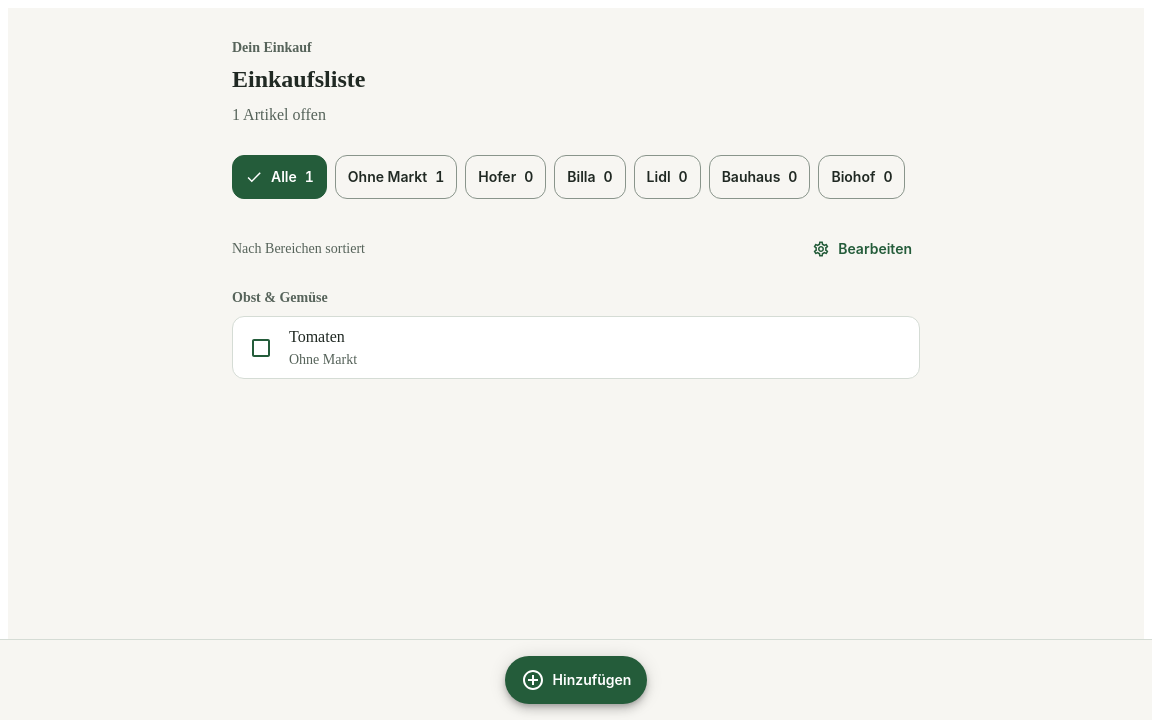
Test case: writes a purchase by grocery id and waits for the list snapshot to update
This screenshot has width=1152, height=720.
Later steps or results of the test are not shown.
Click the button named "Tomaten als gekauft markieren" at (261, 348), box [237,324,285,372]
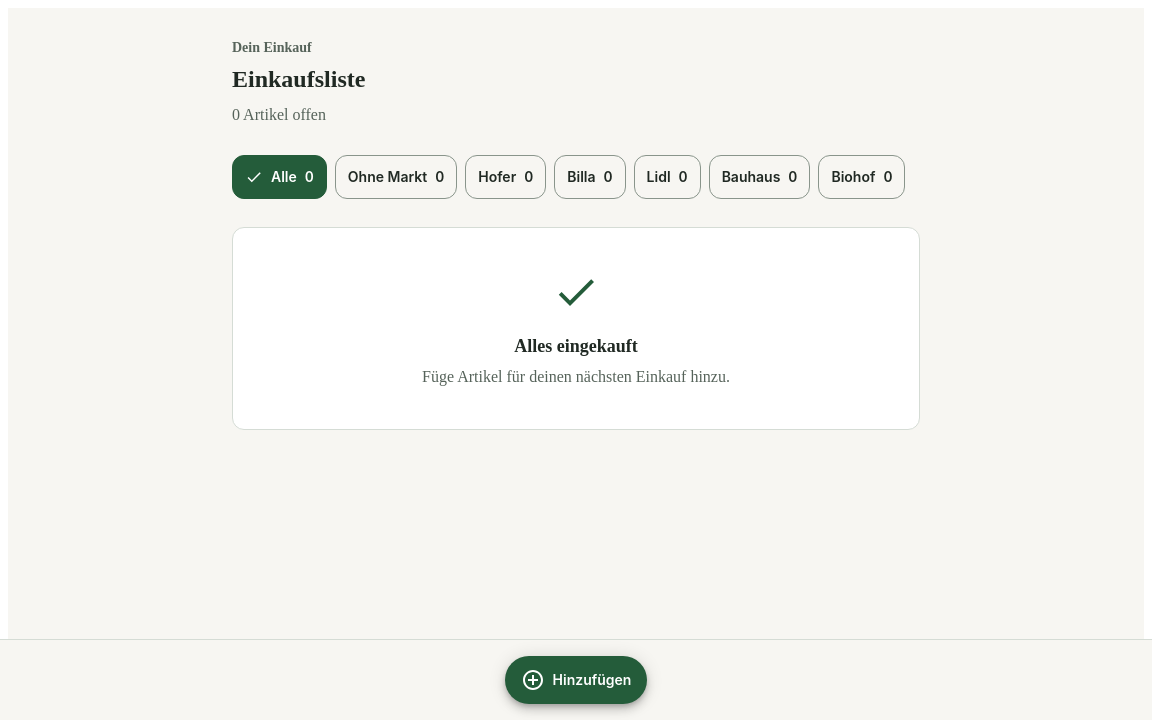
Check: the text "Alles eingekauft" is shown, box [514,336,638,356]
Check: the text with class "AppSummary" reads "0 Artikel offen", box [232,106,326,123]
